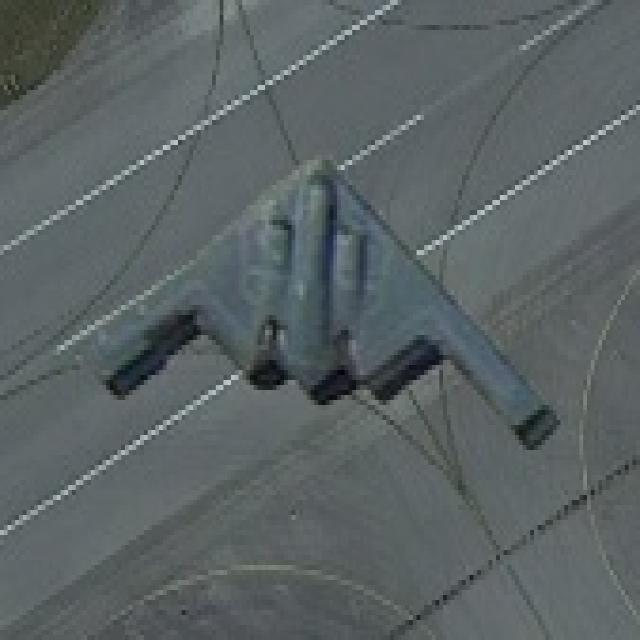B-2_TopDown: (80, 145, 564, 460)
